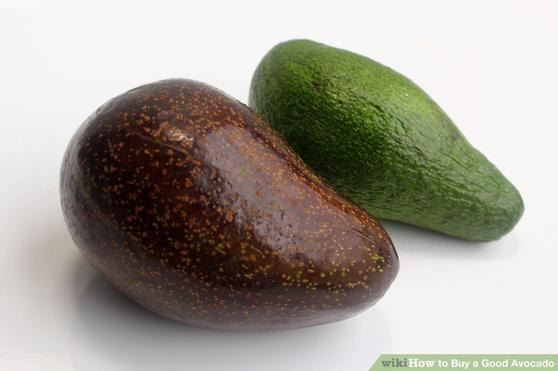avocado: (59, 76, 402, 327), (254, 36, 526, 239)
